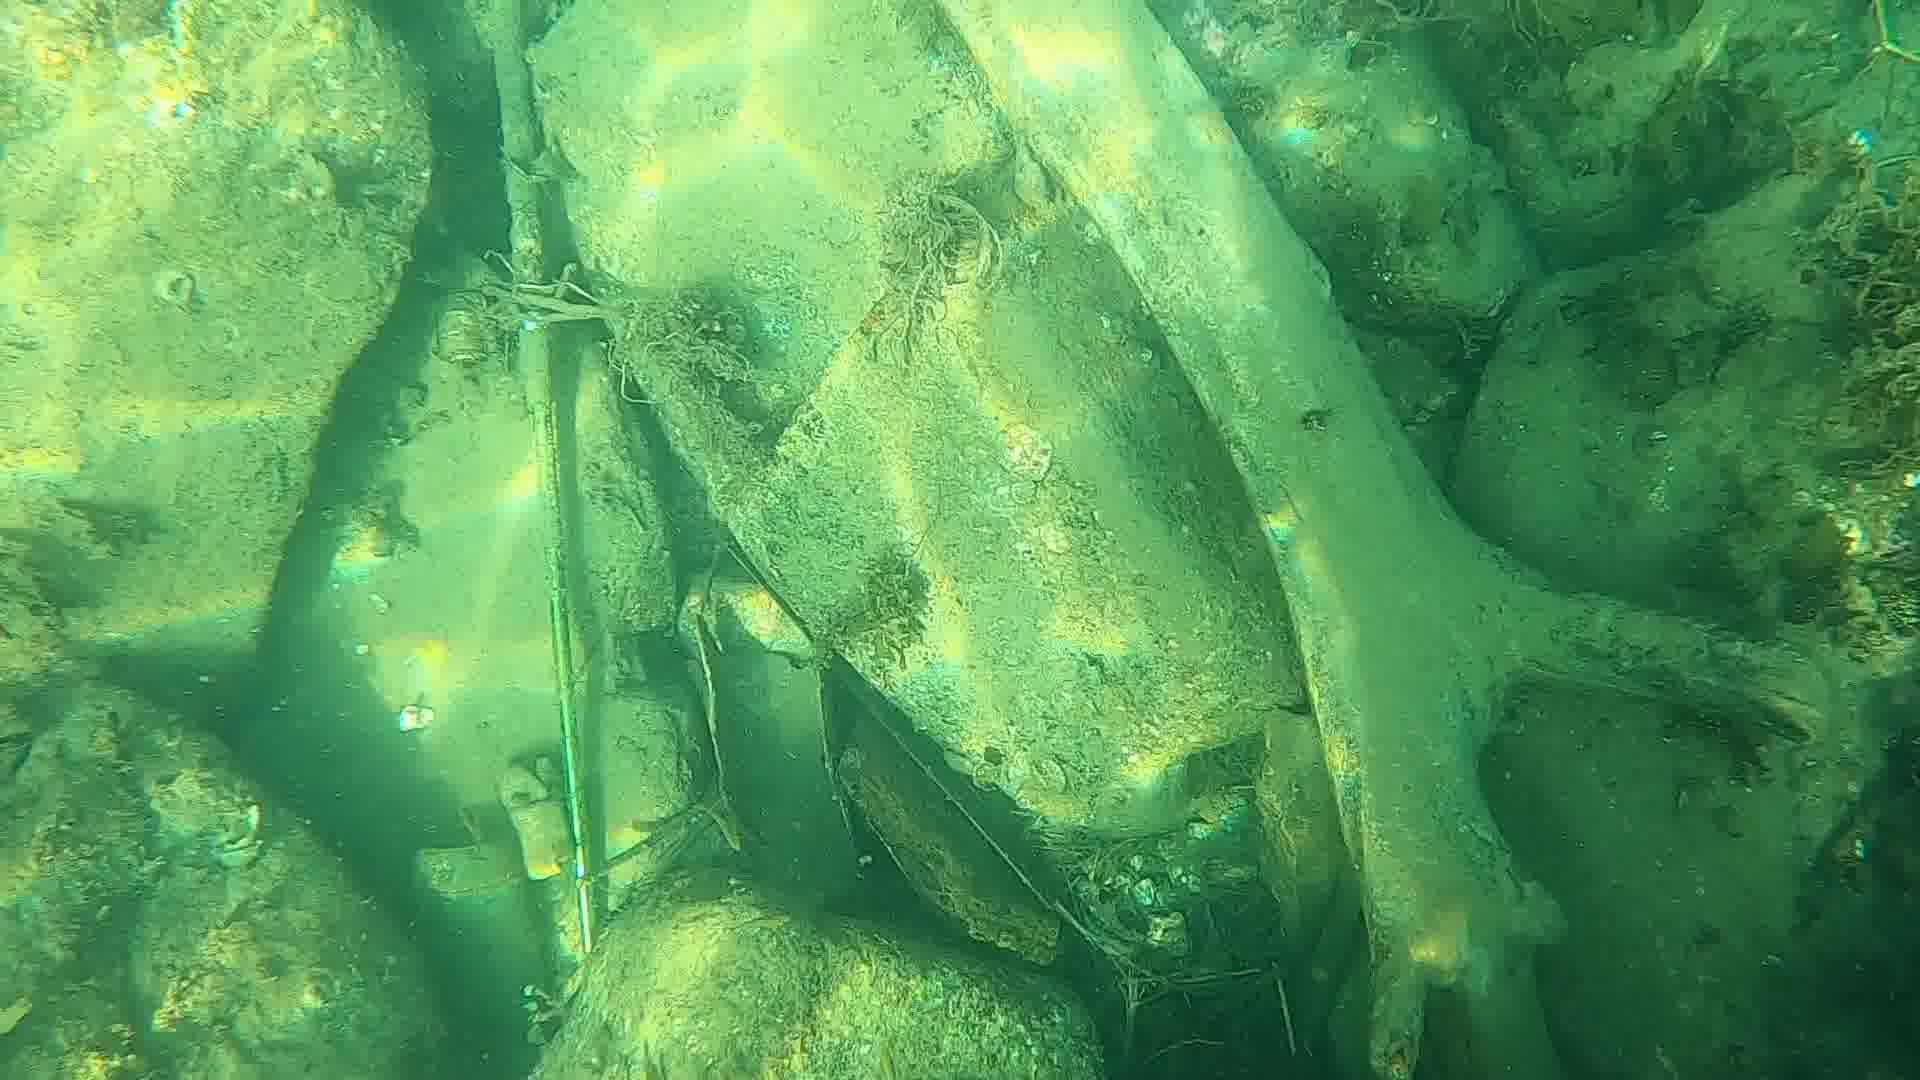wood: (942, 0, 1826, 1080)
